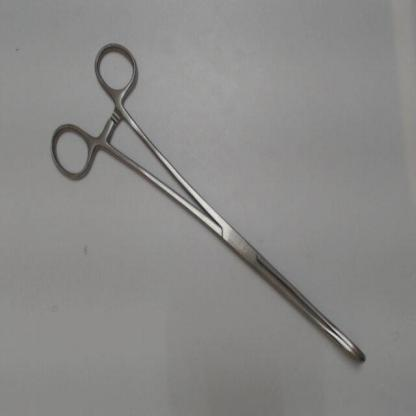Sponge Forceps: (42, 33, 372, 377)
